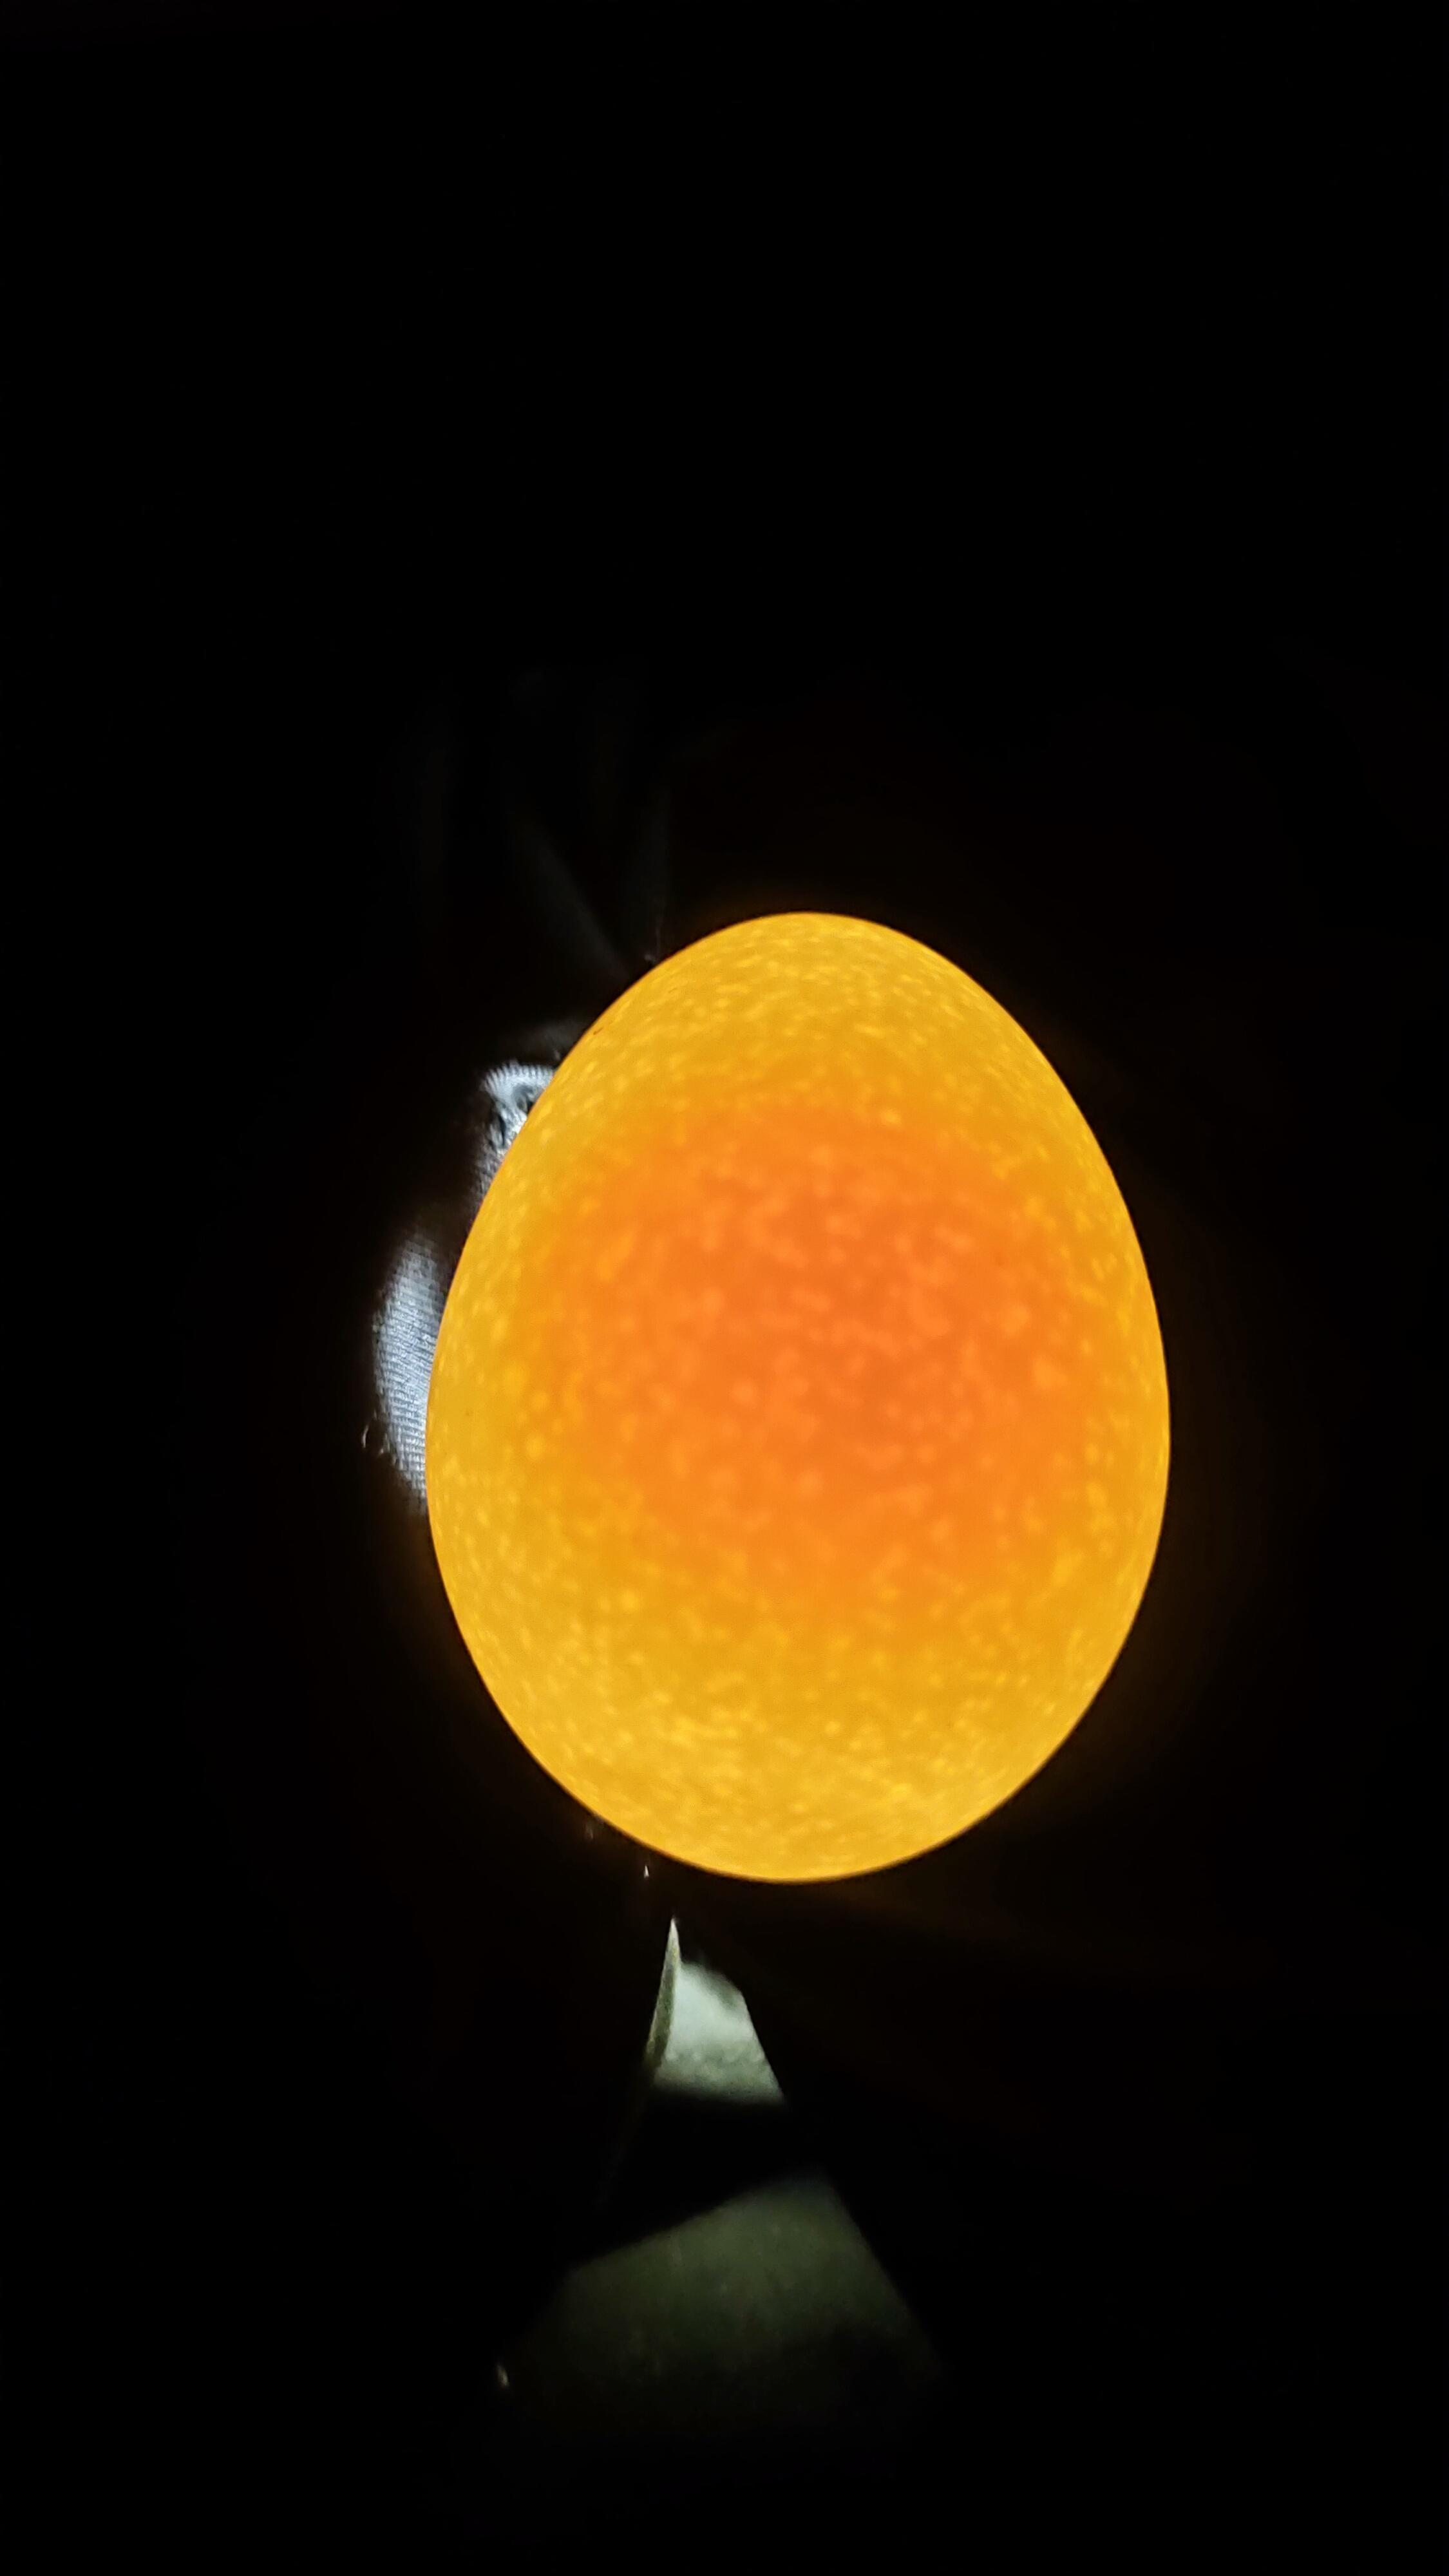A - Good: (328, 850, 1249, 1977)
